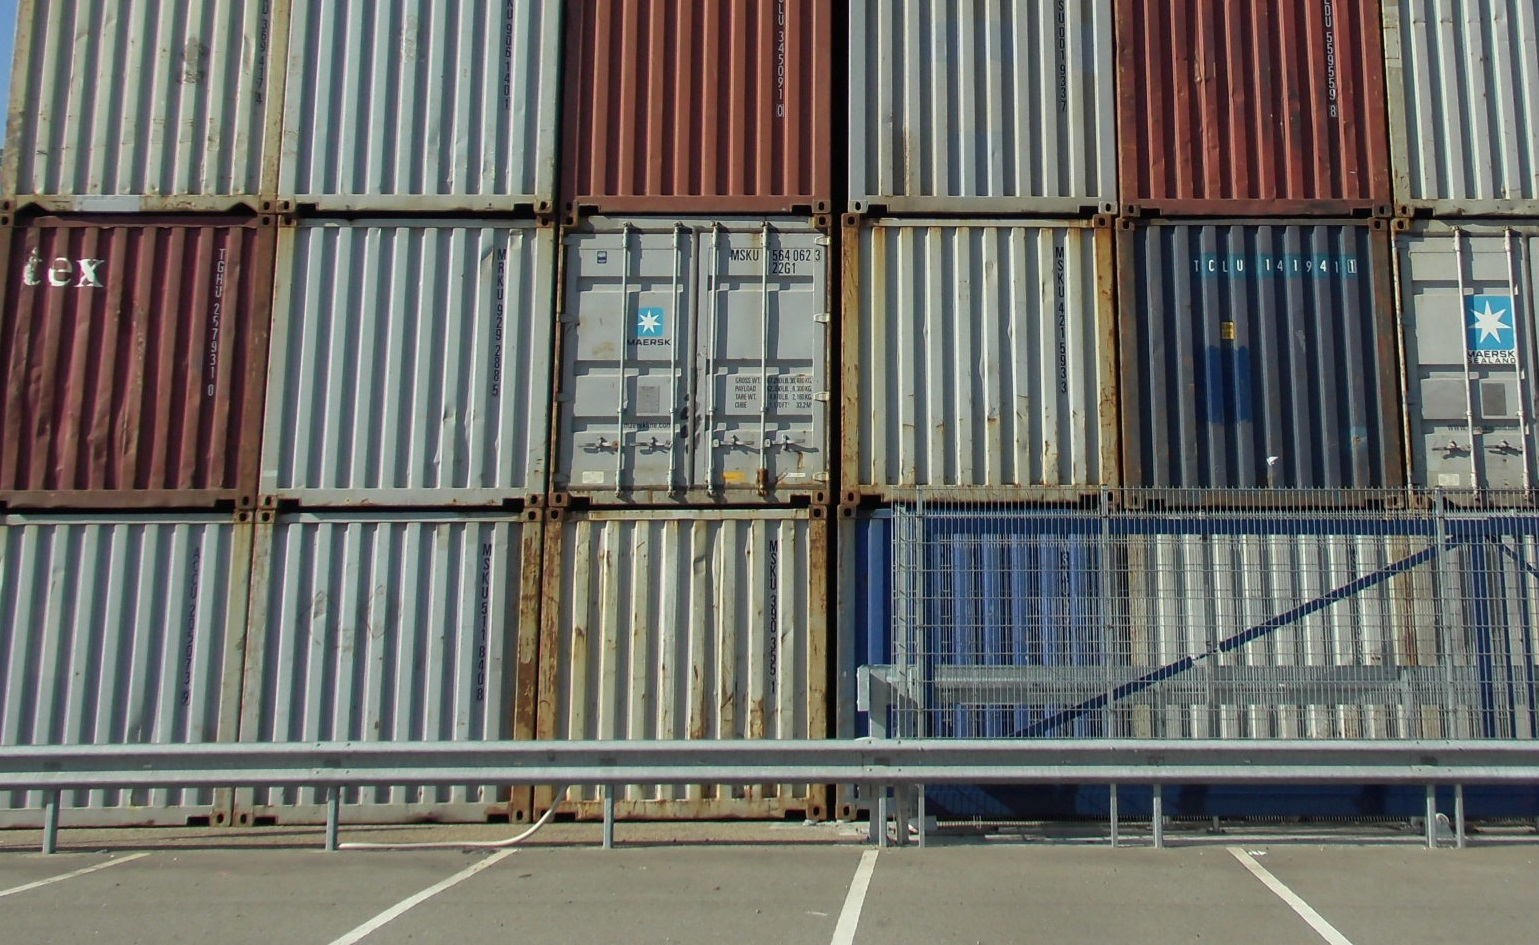container_door: (566, 215, 844, 507), (1414, 216, 1539, 496)
container_no_door: (541, 510, 835, 822), (273, 212, 557, 511), (838, 208, 1120, 500), (1123, 213, 1409, 489), (267, 519, 529, 818), (1, 525, 261, 824), (1, 213, 261, 511), (9, 1, 290, 211), (285, 1, 566, 211), (840, 1, 1121, 211), (562, 1, 842, 211), (1123, 1, 1403, 211), (1398, 1, 1539, 215)
